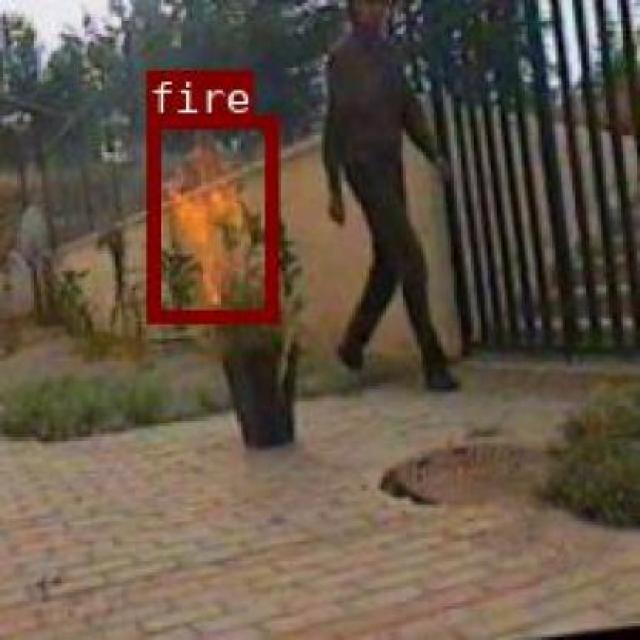Fire: (146, 113, 274, 321)
